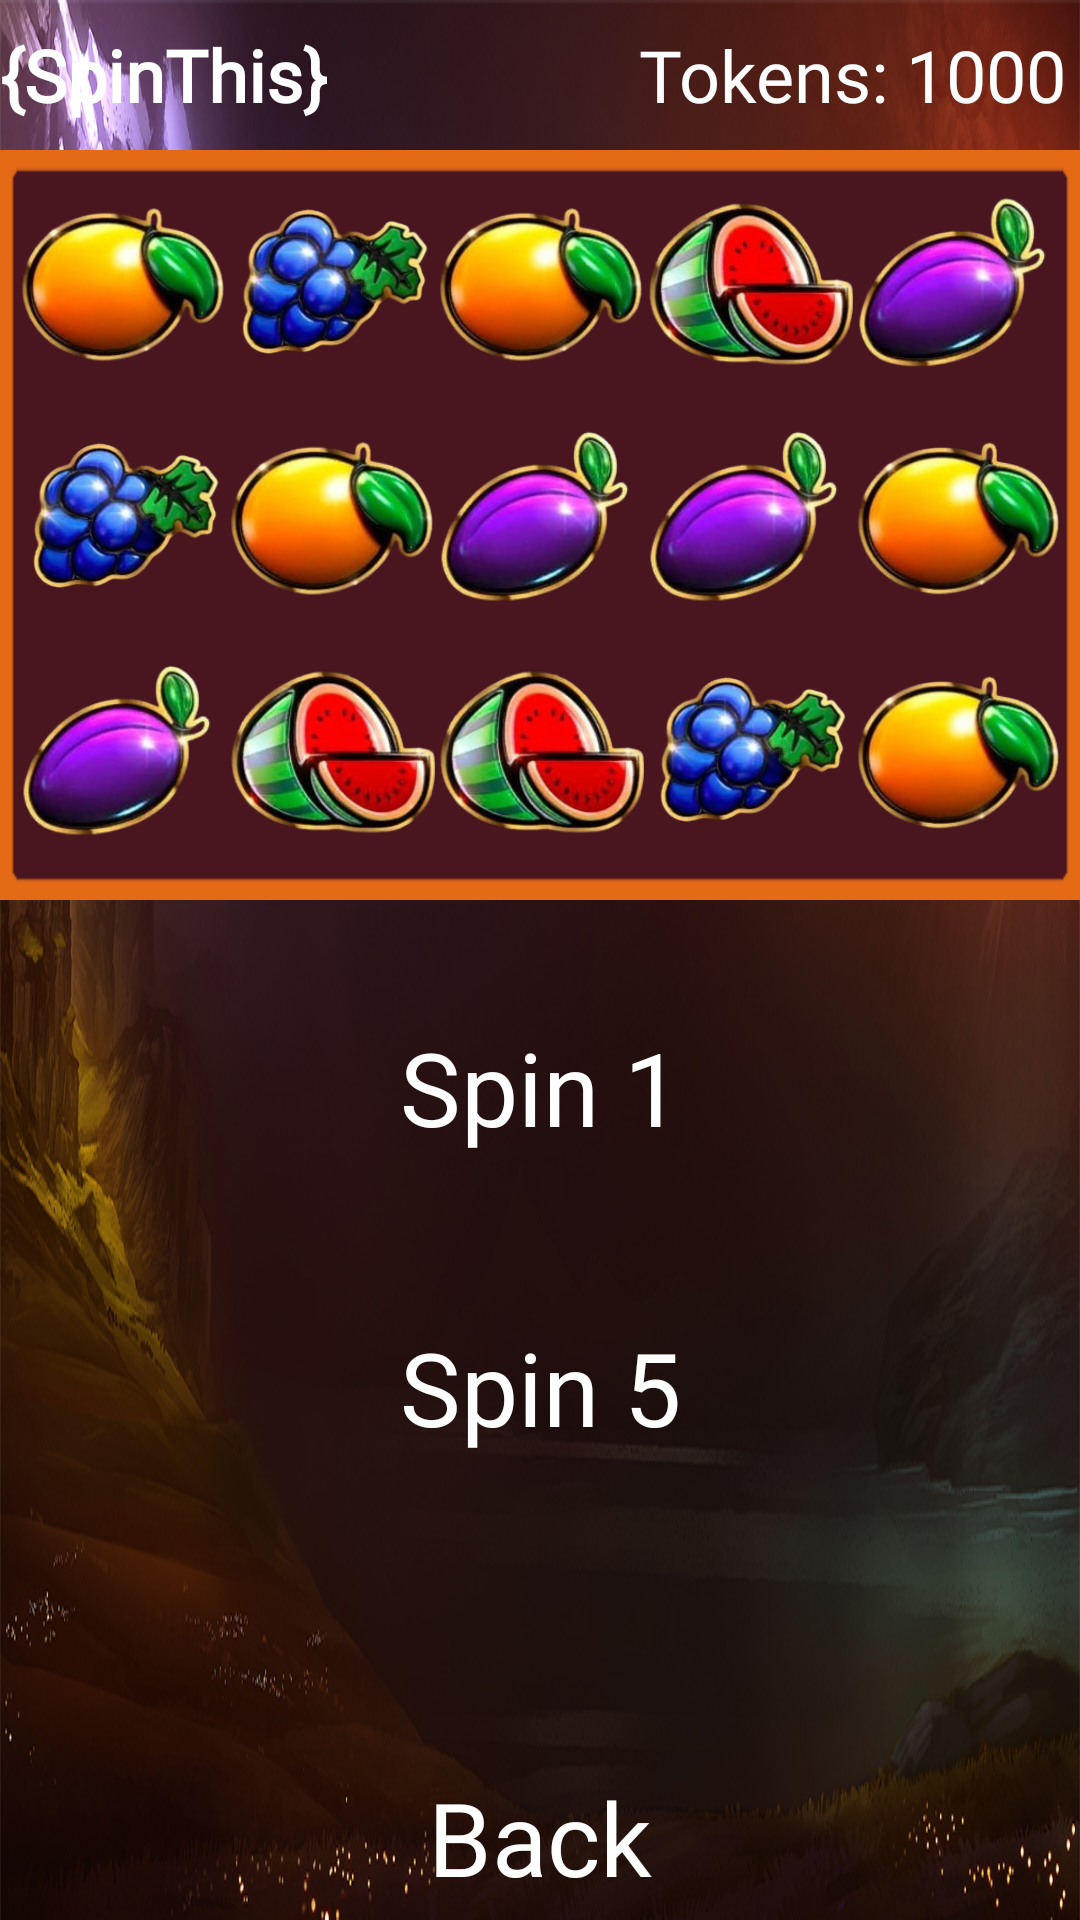

Icons on this 1080 x 1920 Android screen, each with the point to tap as (x,y):
citrus: (123,284), (541,284), (332,518), (958,518), (958,752)
greap: (334,281), (125,515), (752,749)
mellow: (751,284), (333,752), (542,752)
sliva: (952,282), (534,516), (743,516), (116,750)
